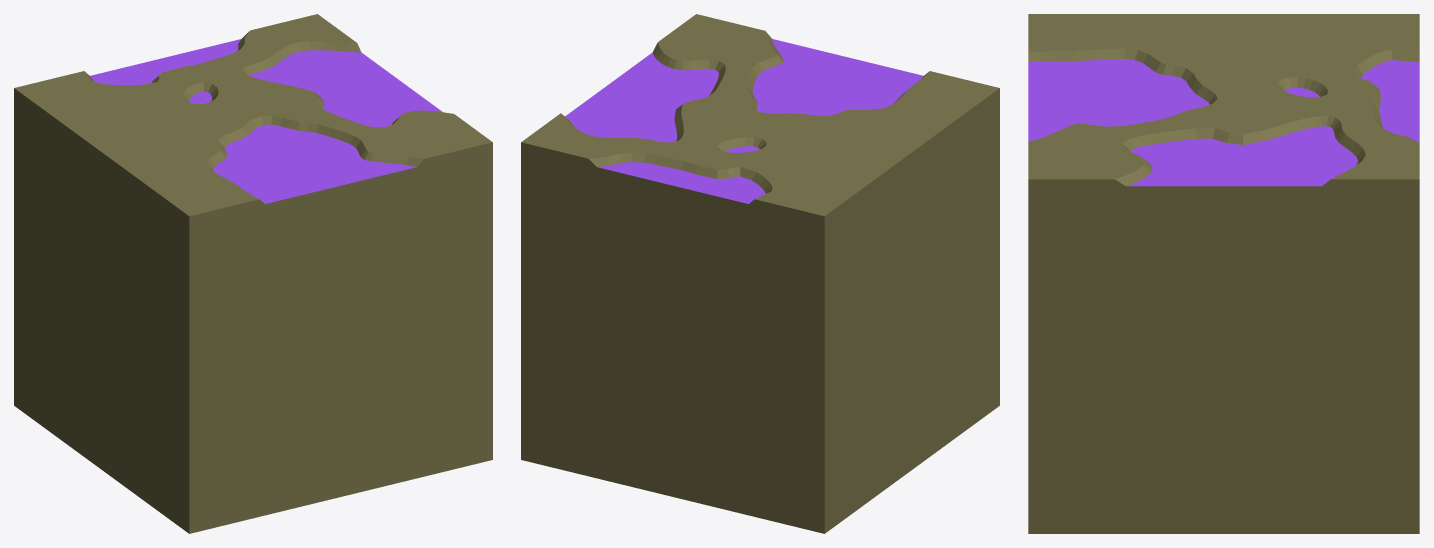
File: tile_toxic_5_05.fbx
3 views of the same model, side by side, from view 1: azimuth 30°, elevation 25°; view 2: azimuth 150°, elevation 25°; view 3: azimuth 270°, elevation 25° (orthographic). The views are drawn at different scales.
Visible parts, largest first — view 1: tile_toxic_5_05; view 2: tile_toxic_5_05; view 3: tile_toxic_5_05.
Part boxes in pixels (<box>): tile_toxic_5_05: <box>14,14,492,533</box>; tile_toxic_5_05: <box>521,14,999,533</box>; tile_toxic_5_05: <box>1028,14,1419,533</box>.
Size of the model in its own units: 100 by 100 by 100.
